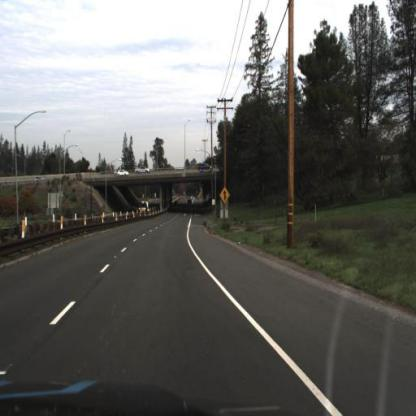car: (134, 161, 154, 177), (31, 173, 49, 187), (113, 168, 131, 181), (139, 200, 151, 216), (114, 169, 130, 179), (200, 163, 213, 173)
